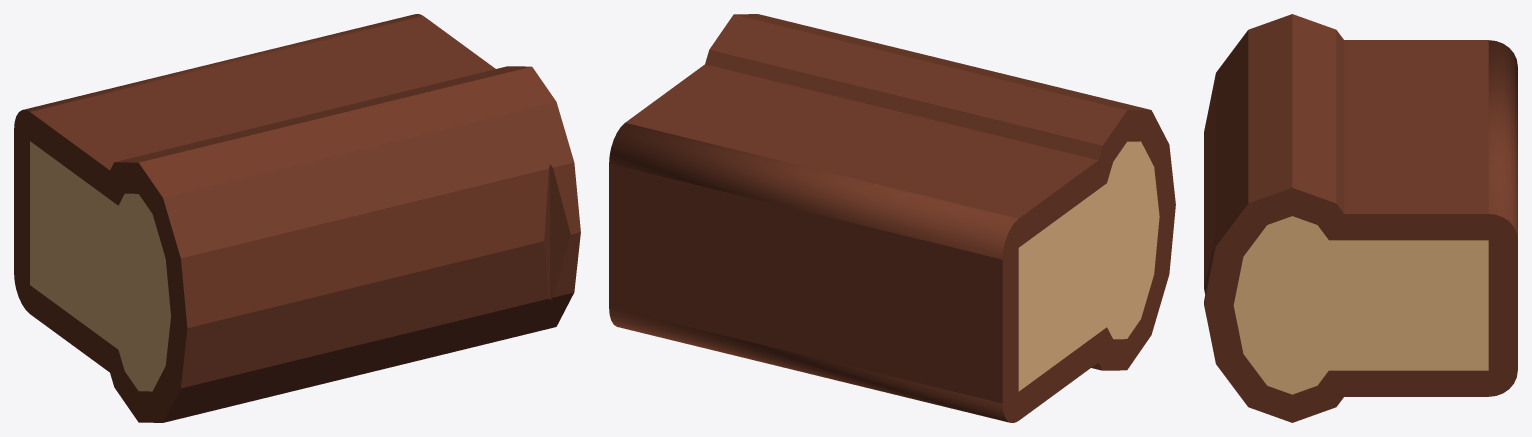
The model's file is bread_visual.obj.
3 renders of one model, left to right at view 1: azimuth 30°, elevation 25°; view 2: azimuth 150°, elevation 25°; view 3: azimuth 270°, elevation 25°, orthographic. The views are drawn at different scales.
Visible parts, largest first — view 1: loaf_ID7.001; view 2: loaf_ID7.001; view 3: loaf_ID7.001.
Boxes of the visible parts, x1,y1,x2,y2 form: loaf_ID7.001: (14,14,580,422); loaf_ID7.001: (609,14,1175,422); loaf_ID7.001: (1204,14,1517,422).
Size of the model in its own units: 0.4006 by 0.2528 by 0.3056.
